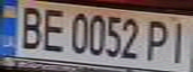0: (66, 8, 90, 55), (87, 10, 106, 57)
2: (121, 14, 145, 61)
5: (103, 11, 124, 58)
B: (12, 2, 48, 51)
E: (36, 3, 69, 53)
I: (163, 18, 193, 64)
P: (142, 16, 175, 63)
